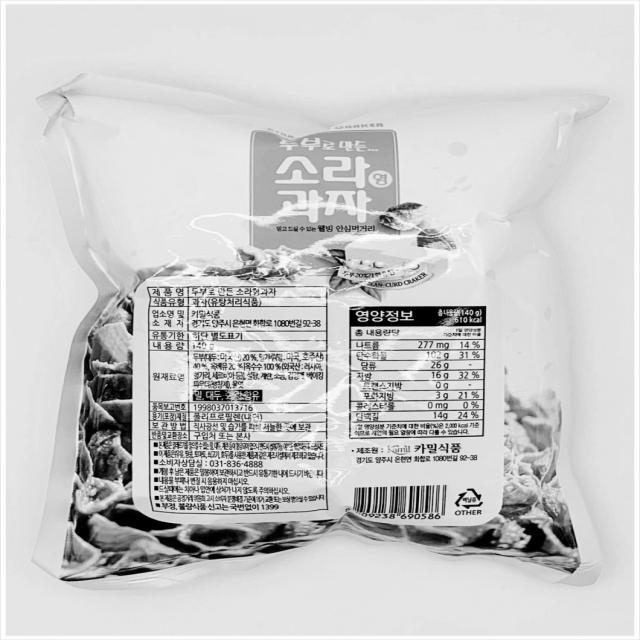Nutrition Label: (341, 298, 494, 446)
